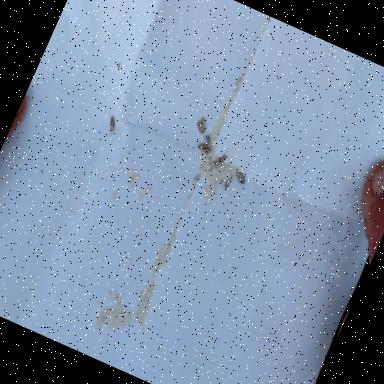pbw: (234, 171, 248, 185), (106, 116, 118, 132), (221, 175, 232, 191), (196, 142, 210, 154), (213, 160, 224, 171), (218, 152, 228, 164), (201, 146, 211, 156), (192, 174, 199, 184)
